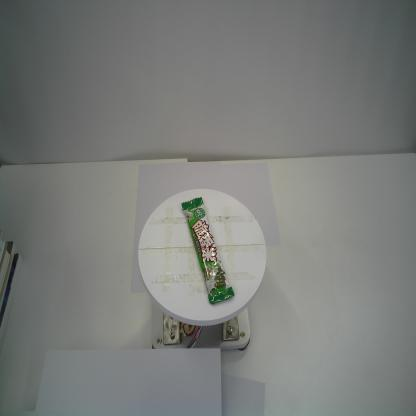Chocolate: (182, 193, 236, 308)
